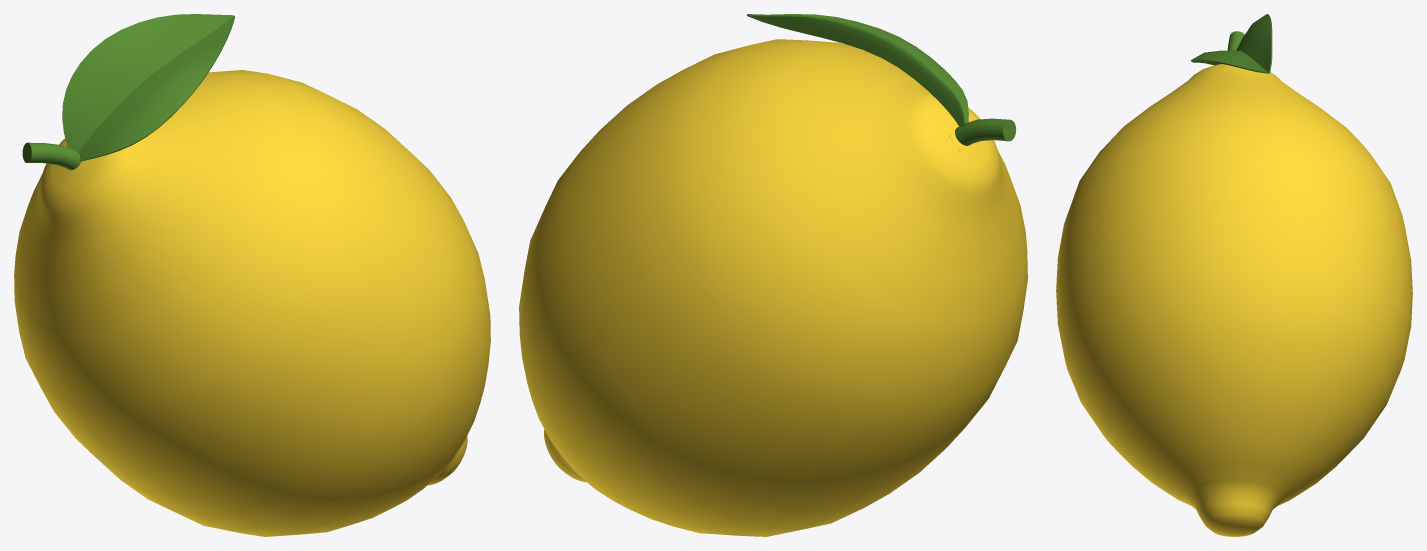
Rendered from lemon.glb.
3 renders of one model, left to right at view 1: azimuth 30°, elevation 25°; view 2: azimuth 150°, elevation 25°; view 3: azimuth 270°, elevation 25°, orthographic. The views are drawn at different scales.
Parts seen in each view (by area): view 1: Sphere.007; view 2: Sphere.007; view 3: Sphere.007.
Part boxes in pixels (bbox=[...]): Sphere.007: bbox=[14, 14, 490, 536]; Sphere.007: bbox=[519, 14, 1027, 536]; Sphere.007: bbox=[1056, 14, 1412, 536].
Bounding box in the file's own units: 1.99 × 2.22 × 1.74.
Materials: 1 (1 with a texture image).
